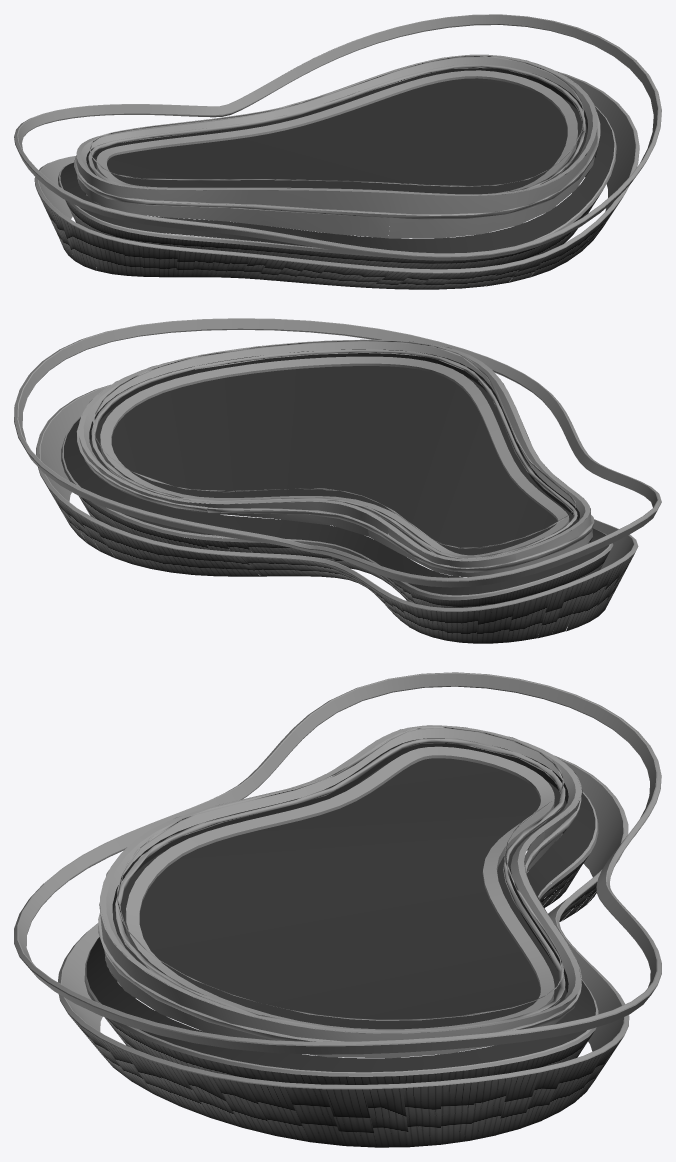
Rendered from build13.gltf.
3 renders of one model, top to bottom at view 1: azimuth 30°, elevation 25°; view 2: azimuth 150°, elevation 25°; view 3: azimuth 270°, elevation 25°, orthographic. The views are drawn at different scales.
Parts seen in each view (by area): view 1: Object_437.001; view 2: Object_437.001; view 3: Object_437.001.
Part boxes in pixels (x1=…): Object_437.001: x1=14, y1=14, x2=661, y2=289; Object_437.001: x1=14, y1=318, x2=661, y2=643; Object_437.001: x1=14, y1=672, x2=661, y2=1147.
Size of the model in its own units: 87.42 by 15.31 by 64.43.
4 materials, 2 textured.
